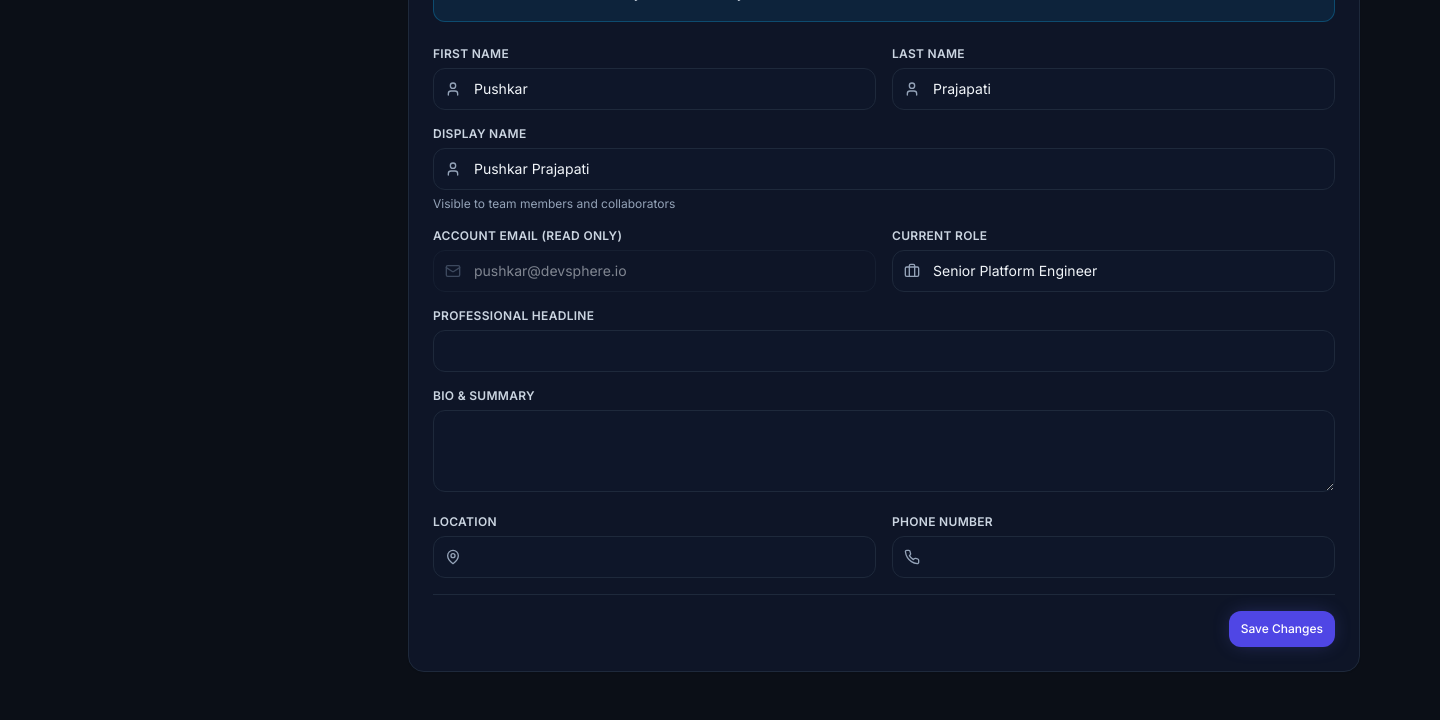
SettingsPage › 21. Settings errors are displayed correctly when API update fails
(page scrolled)
Click the button "Save Changes": (1282, 628) [1229,610,1335,646]
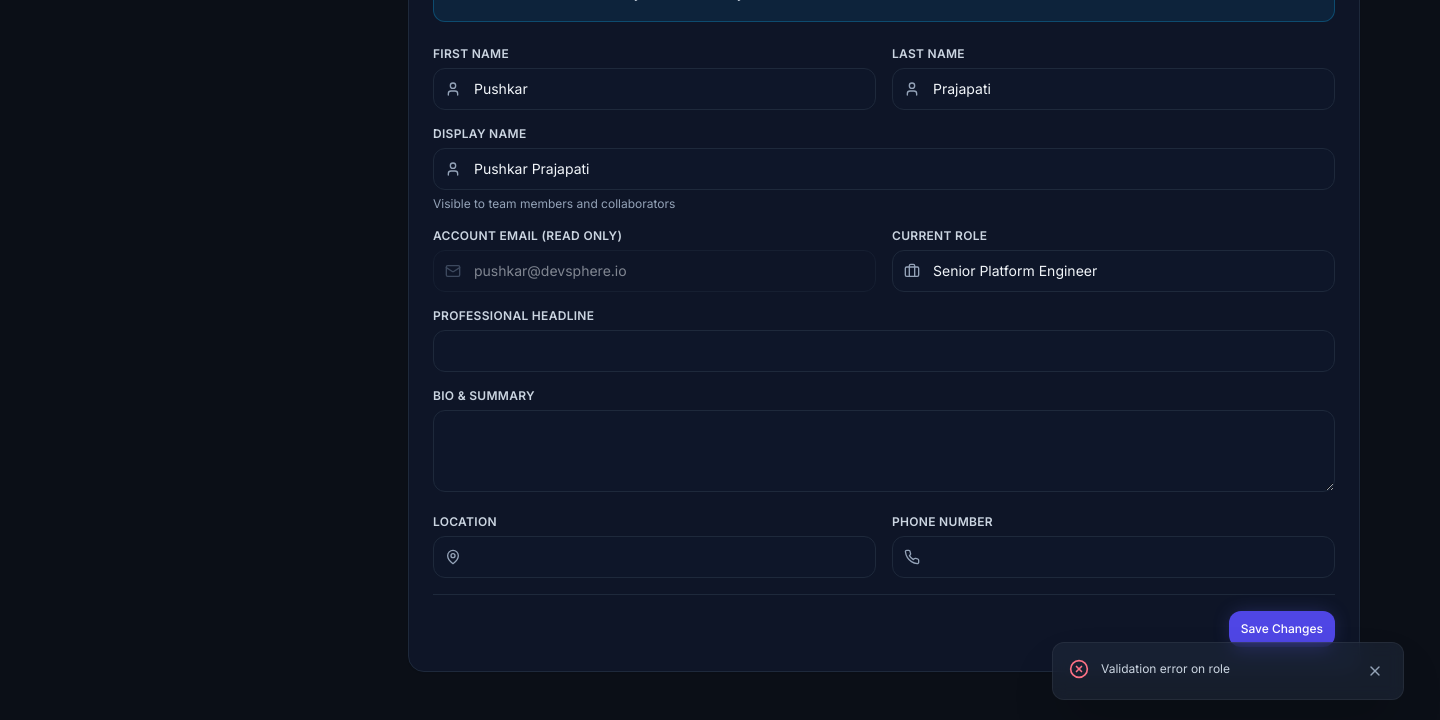
Check: the text "Validation error on role" is shown, box [1101,661,1230,676]
